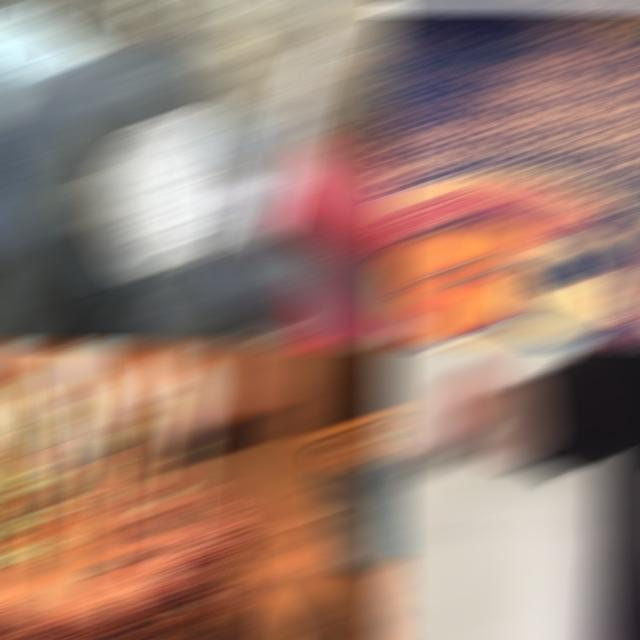Knife_Handle: (380, 354, 509, 530)
